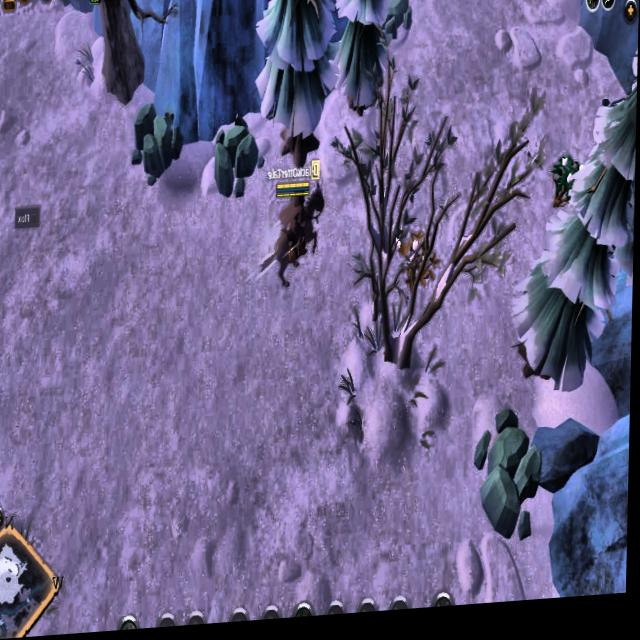sandstone: (473, 412, 548, 553), (131, 102, 186, 191), (210, 113, 262, 204)
